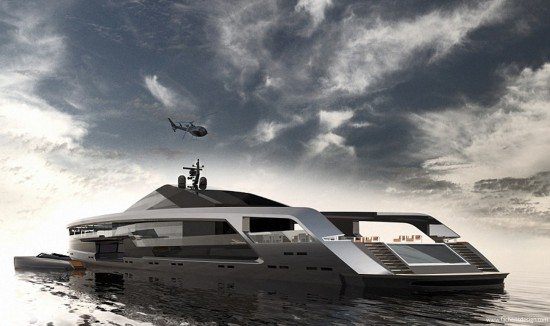airplane: (159, 114, 212, 141)
yacht: (37, 157, 505, 293)
